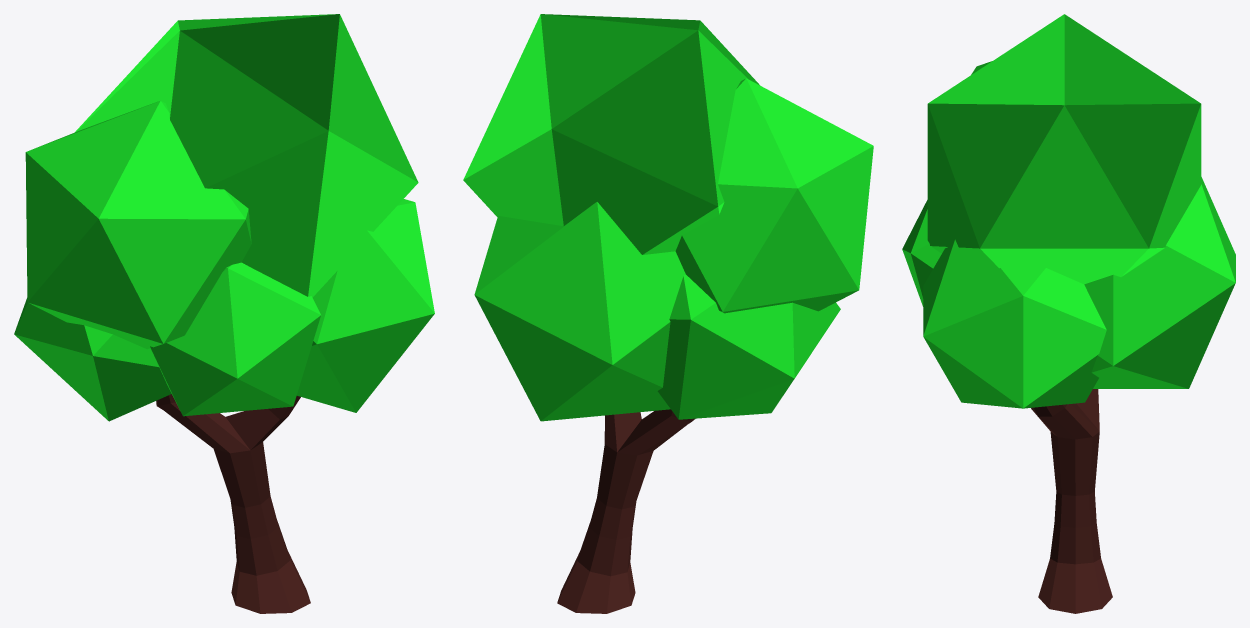
The model's file is Tree2.FBX.
3 views of the same model, side by side, from view 1: azimuth 30°, elevation 25°; view 2: azimuth 150°, elevation 25°; view 3: azimuth 270°, elevation 25° (orthographic). The views are drawn at different scales.
Parts seen in each view (by area): view 1: Tree; view 2: Tree; view 3: Tree.
Part boxes in pixels (x1,y1,x2,y2): Tree: [14, 14, 434, 613]; Tree: [463, 14, 873, 613]; Tree: [902, 14, 1235, 613].
Bounding box in the file's own units: 1098 × 1681 × 940.
